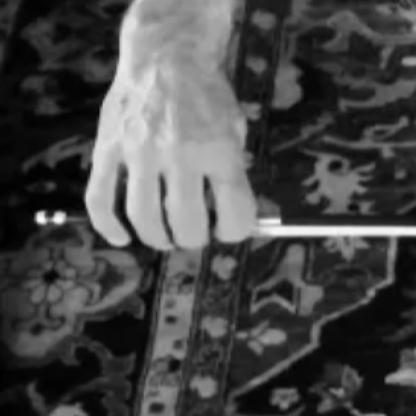good: (82, 100, 274, 251)
